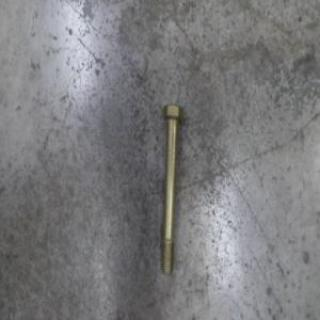Bolttrack_idkeyframe: (160, 101, 183, 276)
